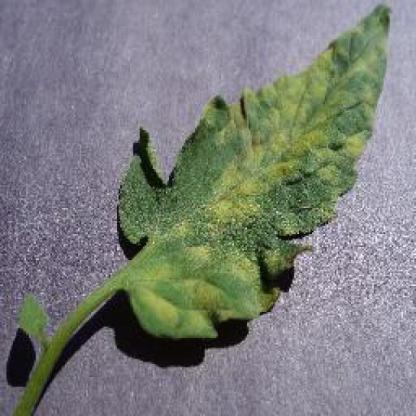Tomato_Leaf_Mold: (117, 5, 394, 339)
